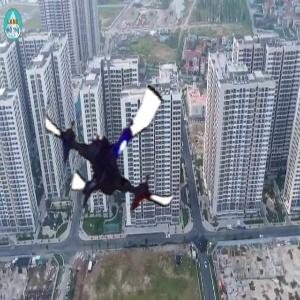drone: (33, 63, 198, 228)
